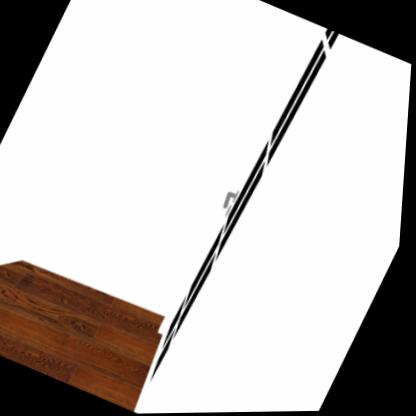Wooden floor: (0, 261, 167, 412)
